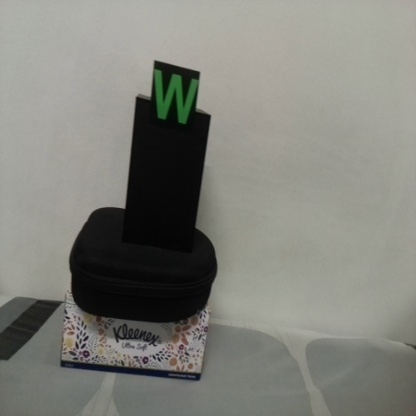id_12: (152, 64, 201, 132)
